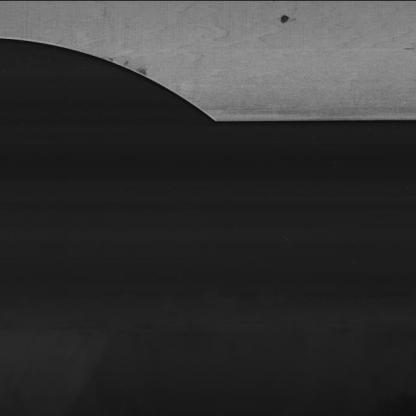crescent_gap: (0, 23, 234, 139)
